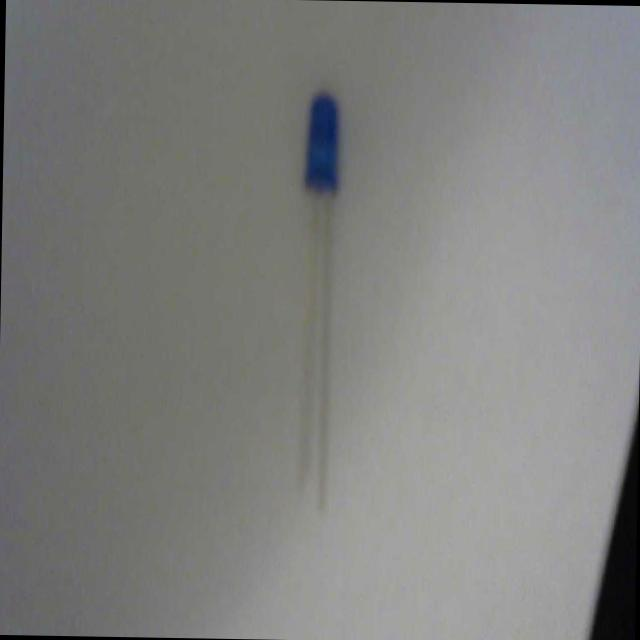blue_led: (302, 90, 340, 192)
